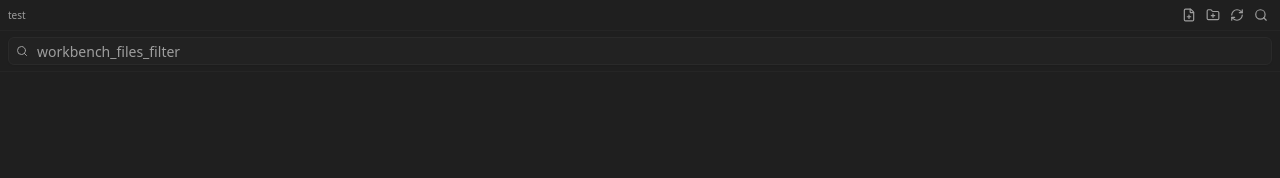
Test: FilesTab — busca em conteúdo › query >=2 chars dispara busca após debounce de 350ms e agrupa hits por arquivo
Click the button named "tooltip_files_search": {"x": 1261, "y": 15} [1250,4,1272,26]
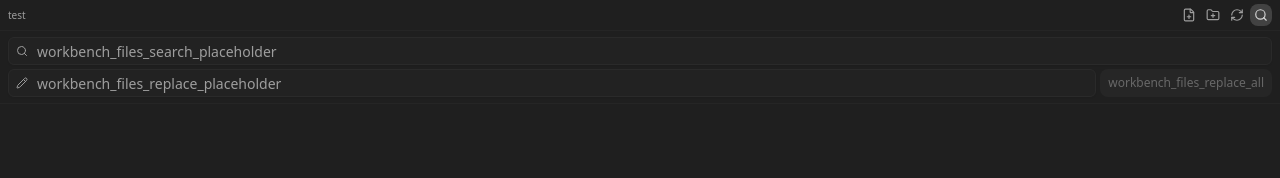
In the search field with placeholder "workbench_files_search_placeholder": {"x": 640, "y": 51} [8,37,1272,65], type "foo"
Wait 350 ms
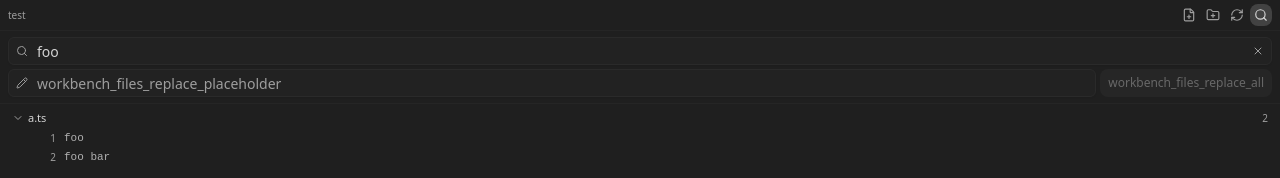
Expected: the text "a.ts" is shown, [28,110,46,125]
